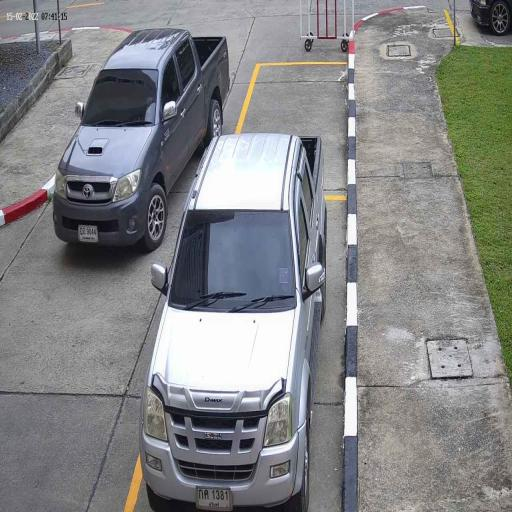car: (139, 131, 326, 512), (52, 26, 230, 252)
